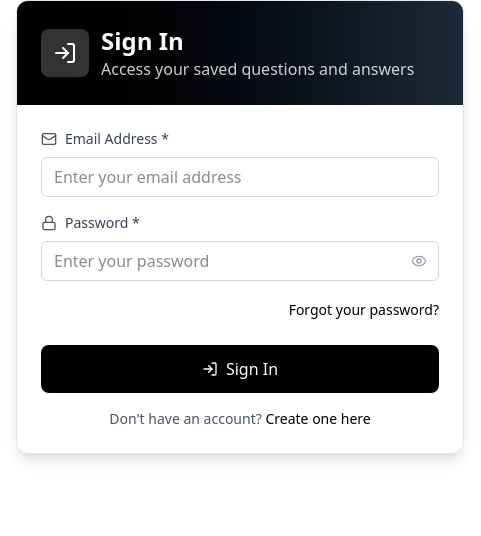
Scenario: SignInForm › Form Validation › shows validation error for empty email
What coordinates should you click on to do the following:
click the button with test id "signin-button"
I would click on:
 (240, 369)
Its box is [41,345,439,393].
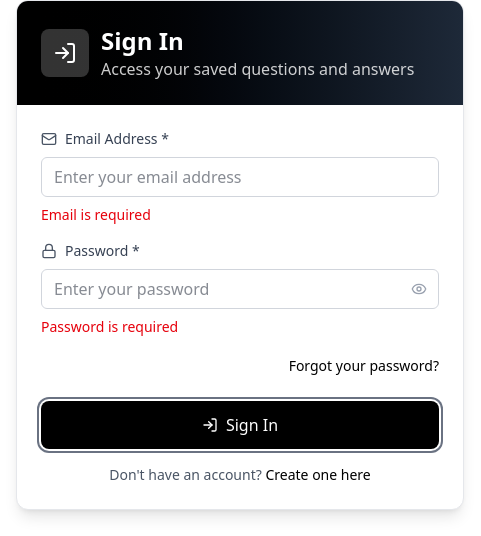
Expected: the text with test id "email-error" reads "Email is required", [41,205,151,224]
